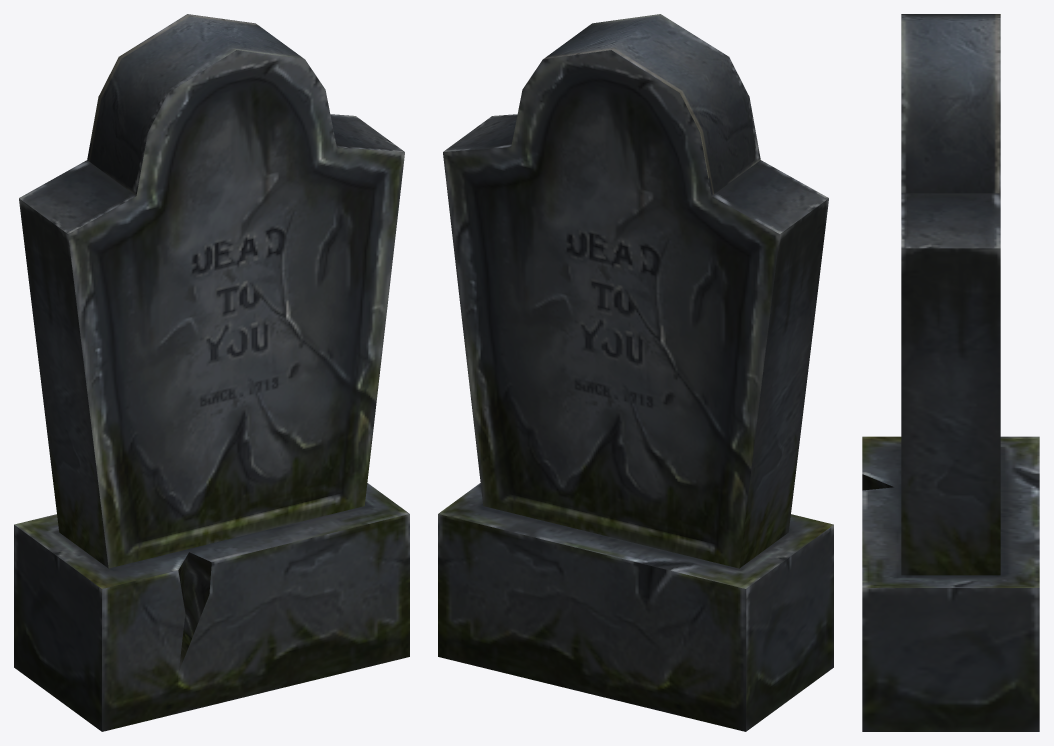
Rendered from C_mubei010.fbx.
3 renders of one model, left to right at view 1: azimuth 30°, elevation 25°; view 2: azimuth 150°, elevation 25°; view 3: azimuth 270°, elevation 25°, orthographic.
Visible parts, largest first — view 1: C_mubei010; view 2: C_mubei010; view 3: C_mubei010.
Part boxes in pixels (x1,y1,x2,y2): C_mubei010: [14, 14, 409, 731]; C_mubei010: [438, 14, 833, 731]; C_mubei010: [862, 14, 1039, 731].
Size of the model in its own units: 92.01 by 164 by 41.66.
